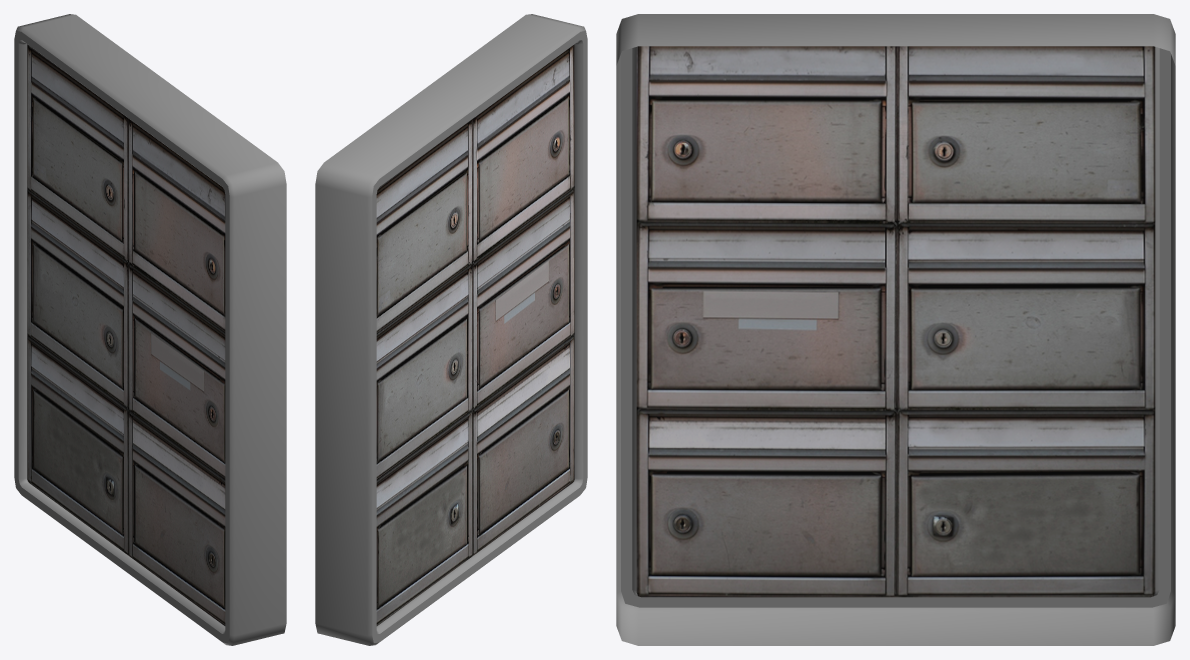
Rendered from PROPS_letterBoxes_01.FBX.
3 views of the same model, side by side, from view 1: azimuth 30°, elevation 25°; view 2: azimuth 150°, elevation 25°; view 3: azimuth 270°, elevation 25° (orthographic). The views are drawn at different scales.
Parts seen in each view (by area): view 1: PROPS_letterBoxes_01; view 2: PROPS_letterBoxes_01; view 3: PROPS_letterBoxes_01.
Boxes of the visible parts, x1,y1,x2,y2 form: PROPS_letterBoxes_01: [14, 14, 286, 645]; PROPS_letterBoxes_01: [315, 14, 587, 645]; PROPS_letterBoxes_01: [616, 14, 1175, 645].
Bounding box in the file's own units: 14.97 × 122 × 103.
2 materials, 1 textured.
